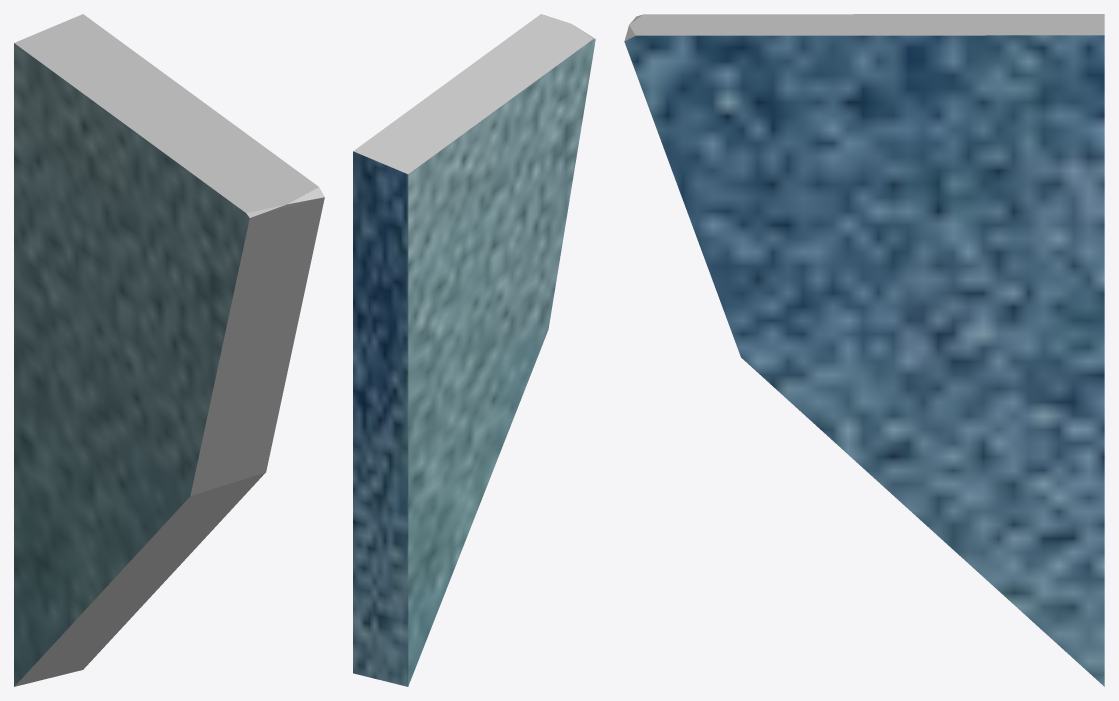
3 views of the same model, side by side, from view 1: azimuth 30°, elevation 25°; view 2: azimuth 150°, elevation 25°; view 3: azimuth 270°, elevation 25° (orthographic). The views are drawn at different scales.
Parts seen in each view (by area): view 1: Cube_cell.023_Mesh.023; view 2: Cube_cell.023_Mesh.023; view 3: Cube_cell.023_Mesh.023.
Part boxes in pixels (left/top/right/bottom): Cube_cell.023_Mesh.023: left=14, top=14, right=324, bottom=686; Cube_cell.023_Mesh.023: left=353, top=14, right=595, bottom=686; Cube_cell.023_Mesh.023: left=624, top=14, right=1104, bottom=686.
Bounding box in the file's own units: 0.0832 × 0.7547 × 0.504.
